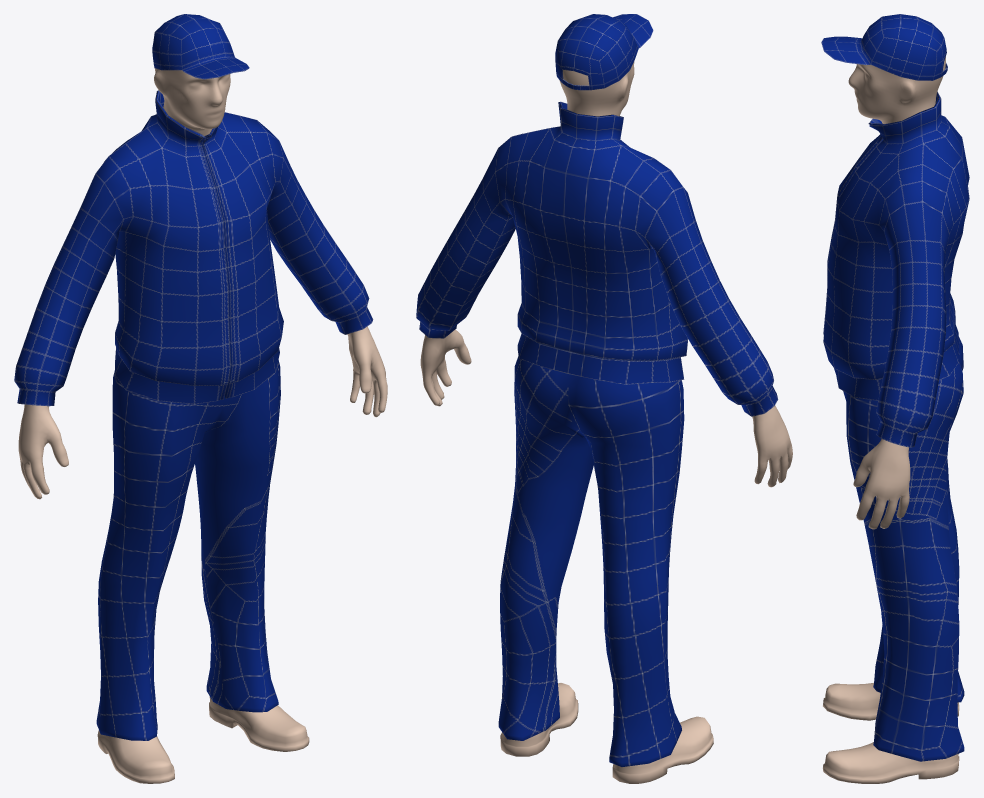
Rendered from Hero.fbx.
The picture shows the model from 3 angles, left to right: view 1: azimuth 30°, elevation 25°; view 2: azimuth 150°, elevation 25°; view 3: azimuth 270°, elevation 25°; orthographic projection.
Visible parts, largest first — view 1: polySurface8, polySurface6, polySurface7, polySurface5, polySurface1, polySurface4, polySurface15, polySurface3; view 2: polySurface8, polySurface6, polySurface7, polySurface15, polySurface4, polySurface5, polySurface3, polySurface1; view 3: polySurface8, polySurface6, polySurface7, polySurface3, polySurface5, polySurface1, polySurface15.
Part boxes in pixels (x1,y1,x2,y2): polySurface8: [14, 90, 373, 406]; polySurface6: [96, 360, 280, 740]; polySurface7: [152, 14, 249, 79]; polySurface5: [154, 68, 230, 135]; polySurface1: [209, 696, 309, 751]; polySurface4: [18, 404, 68, 499]; polySurface15: [97, 730, 174, 783]; polySurface3: [347, 326, 387, 417]; polySurface8: [416, 101, 778, 416]; polySurface6: [498, 356, 684, 766]; polySurface7: [555, 14, 653, 90]; polySurface15: [612, 716, 713, 783]; polySurface4: [752, 405, 792, 487]; polySurface5: [559, 62, 634, 116]; polySurface3: [420, 329, 471, 406]; polySurface1: [500, 683, 578, 756]; polySurface8: [823, 91, 969, 447]; polySurface6: [843, 337, 964, 761]; polySurface7: [821, 14, 947, 80]; polySurface3: [853, 439, 910, 529]; polySurface5: [848, 56, 945, 123]; polySurface1: [822, 742, 959, 783]; polySurface15: [823, 683, 959, 720].
Size of the model in its own units: 95.48 by 183 by 34.06.
